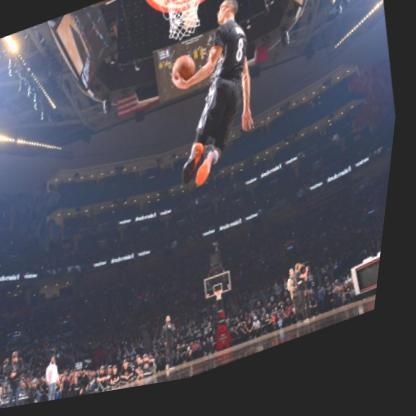basketball: (170, 58, 200, 91)
